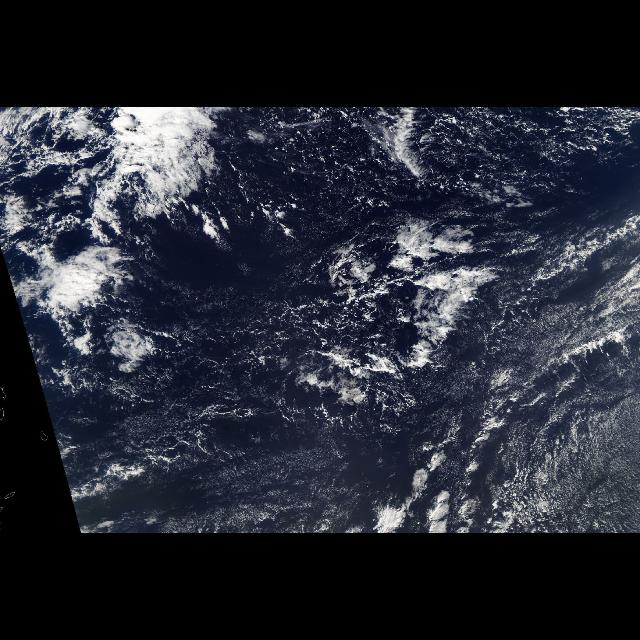Fish: (215, 217, 520, 416)
Gravel: (136, 108, 640, 454)
Sugar: (45, 266, 639, 534)
